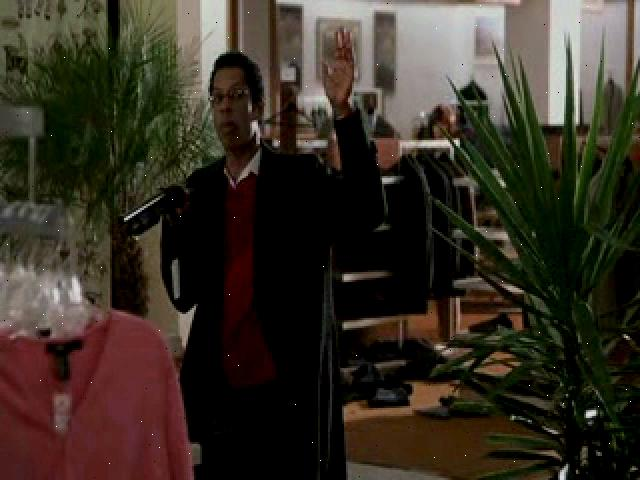L: (117, 31, 388, 476)
